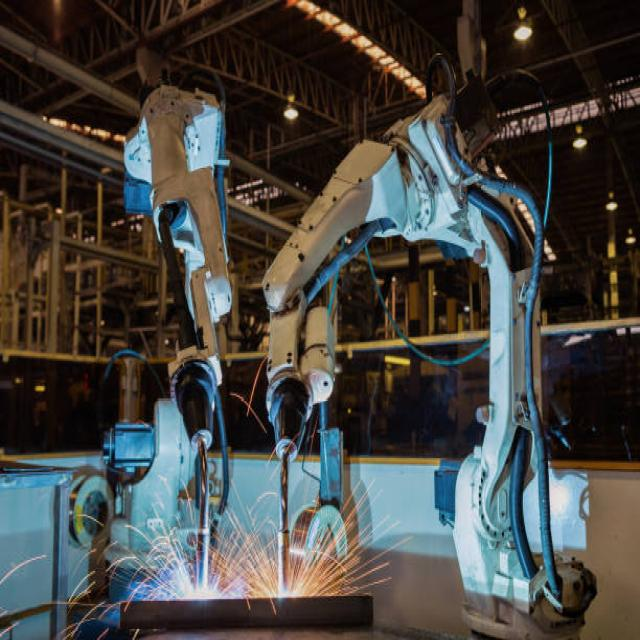Robotic-arm: (262, 95, 574, 608), (115, 79, 245, 455)
